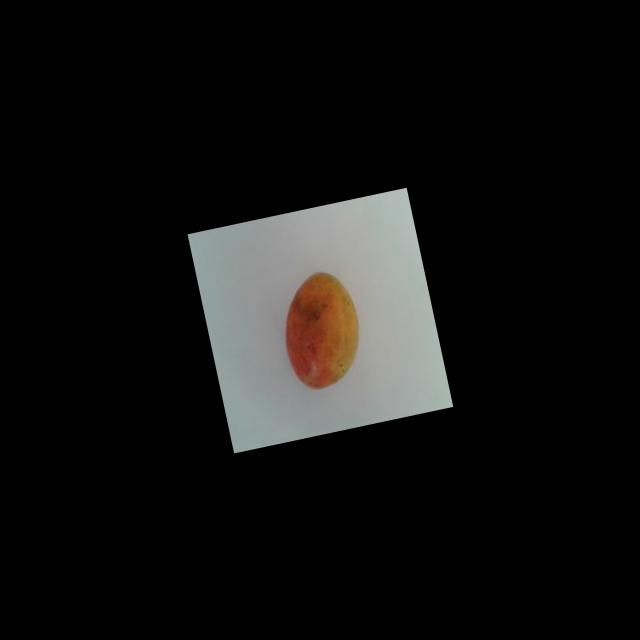Mango: (271, 264, 370, 394)
